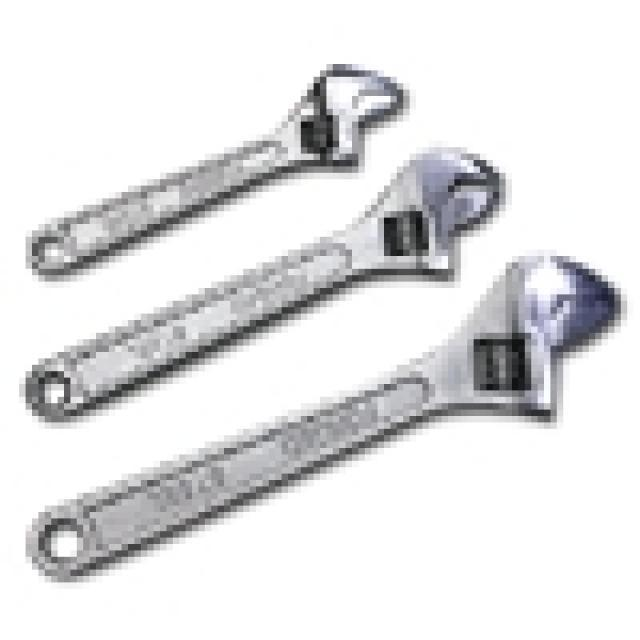wrench: (18, 243, 629, 588), (9, 139, 512, 430), (19, 58, 410, 280)
